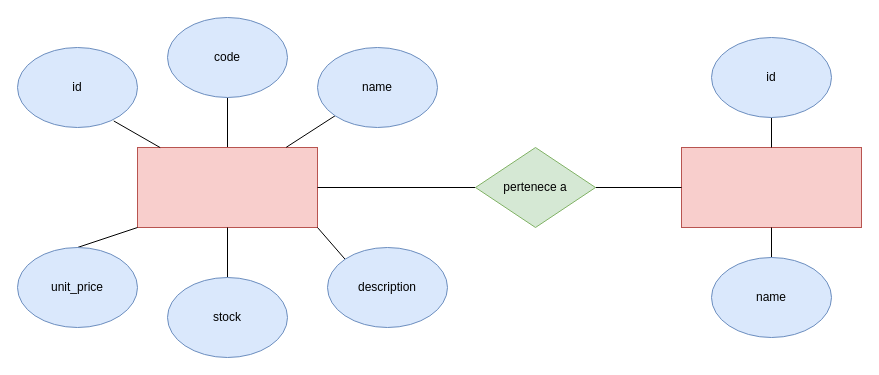
Image size: 879x375. Some labels were removed from this diagram. Here are the shapes that lost their labels. From the top down, the centre of each, then its label:
[227,187]: producto
[771,187]: almacén
